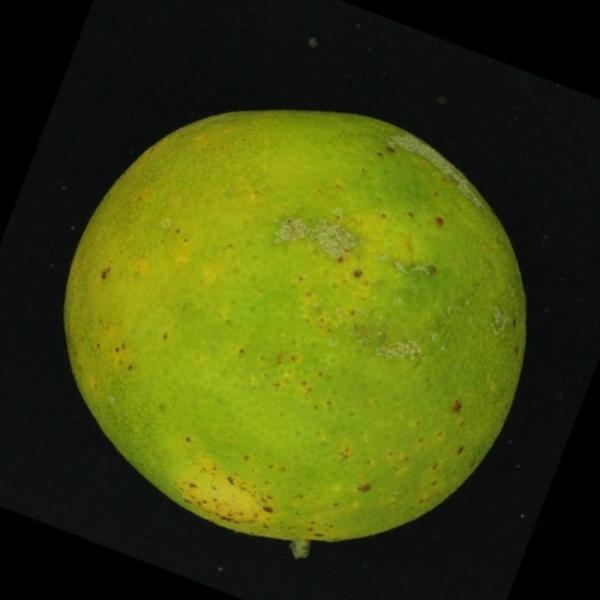Greening: (56, 100, 531, 558)
